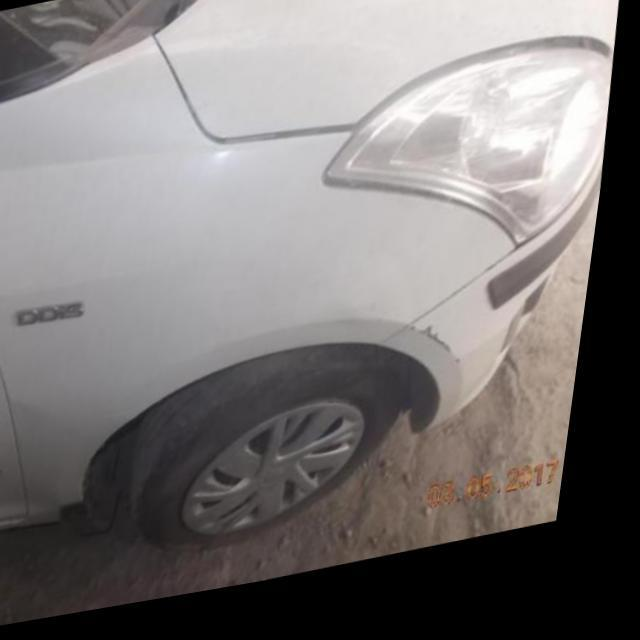crack: (417, 340, 473, 382)
